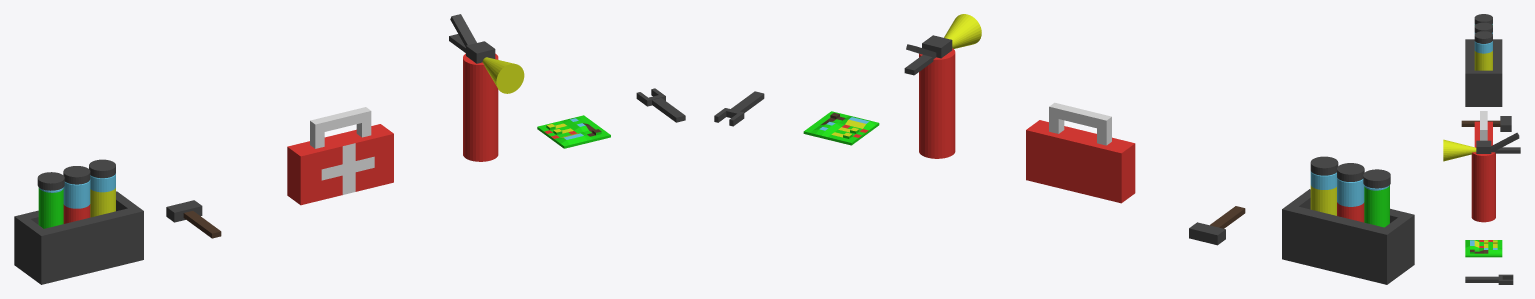
Rendered from tools.fbx.
3 views of the same model, side by side, from view 1: azimuth 30°, elevation 25°; view 2: azimuth 150°, elevation 25°; view 3: azimuth 270°, elevation 25° (orthographic). The views are drawn at different scales.
Parts seen in each view (by area): view 1: Cylinder.005, Cube.001, Cube.003, Cube.002, Cube, Cube.004; view 2: Cylinder.005, Cube.001, Cube.003, Cube.002, Cube, Cube.004; view 3: Cylinder.005, Cube.003, Cube.002, Cube.001, Cube.004, Cube.
Part boxes in pixels (<box>): Cylinder.005: <box>14,159,143,284</box>; Cube.001: <box>287,107,393,205</box>; Cube.003: <box>449,14,524,161</box>; Cube.002: <box>537,115,610,148</box>; Cube: <box>166,200,221,238</box>; Cube.004: <box>636,88,685,122</box>; Cylinder.005: <box>1282,156,1414,284</box>; Cube.001: <box>1026,102,1135,203</box>; Cube.003: <box>904,14,981,158</box>; Cube.002: <box>803,111,879,145</box>; Cube: <box>1189,206,1245,245</box>; Cube.004: <box>714,91,764,126</box>; Cylinder.005: <box>1465,14,1502,106</box>; Cube.003: <box>1443,132,1520,222</box>; Cube.002: <box>1465,240,1502,257</box>; Cube.001: <box>1474,111,1492,146</box>; Cube.004: <box>1465,274,1513,284</box>; Cube: <box>1461,116,1511,131</box>.
Size of the model in its own units: 1390 by 269 by 210.
